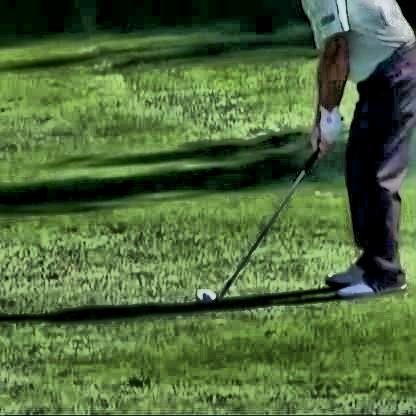golfball: (200, 287, 213, 300)
